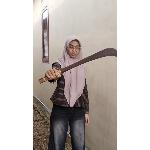Golok: (40, 45, 117, 83)
